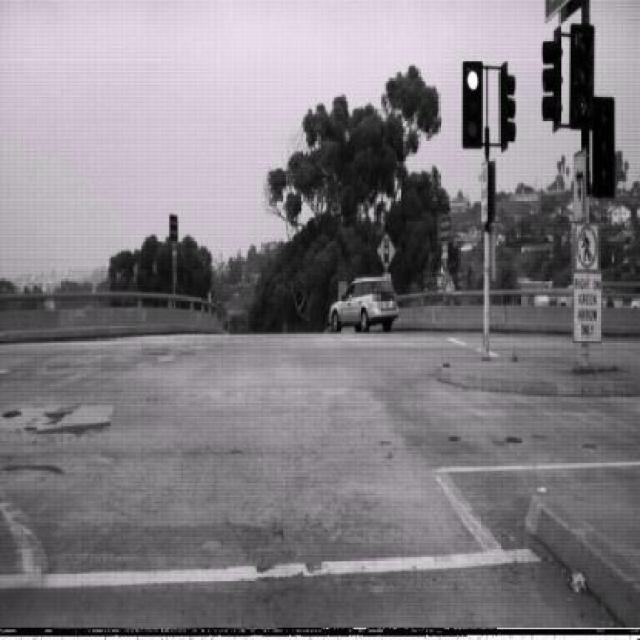signalAhead: (377, 229, 397, 270)
